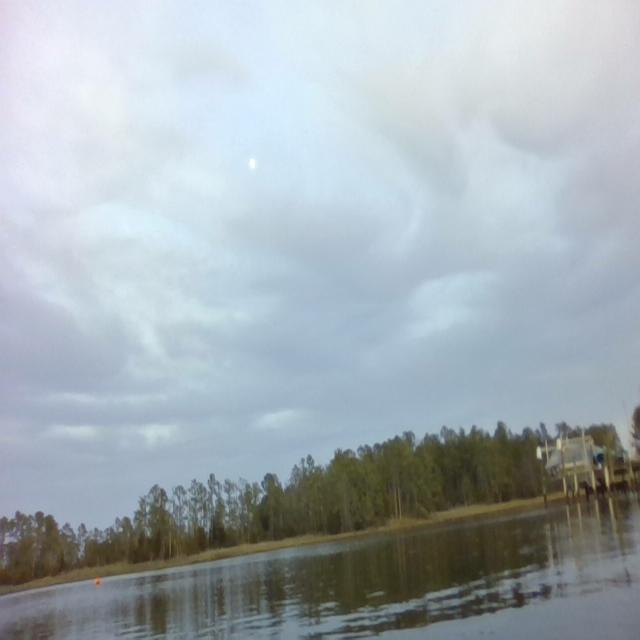Buoy: (94, 575, 102, 588)
